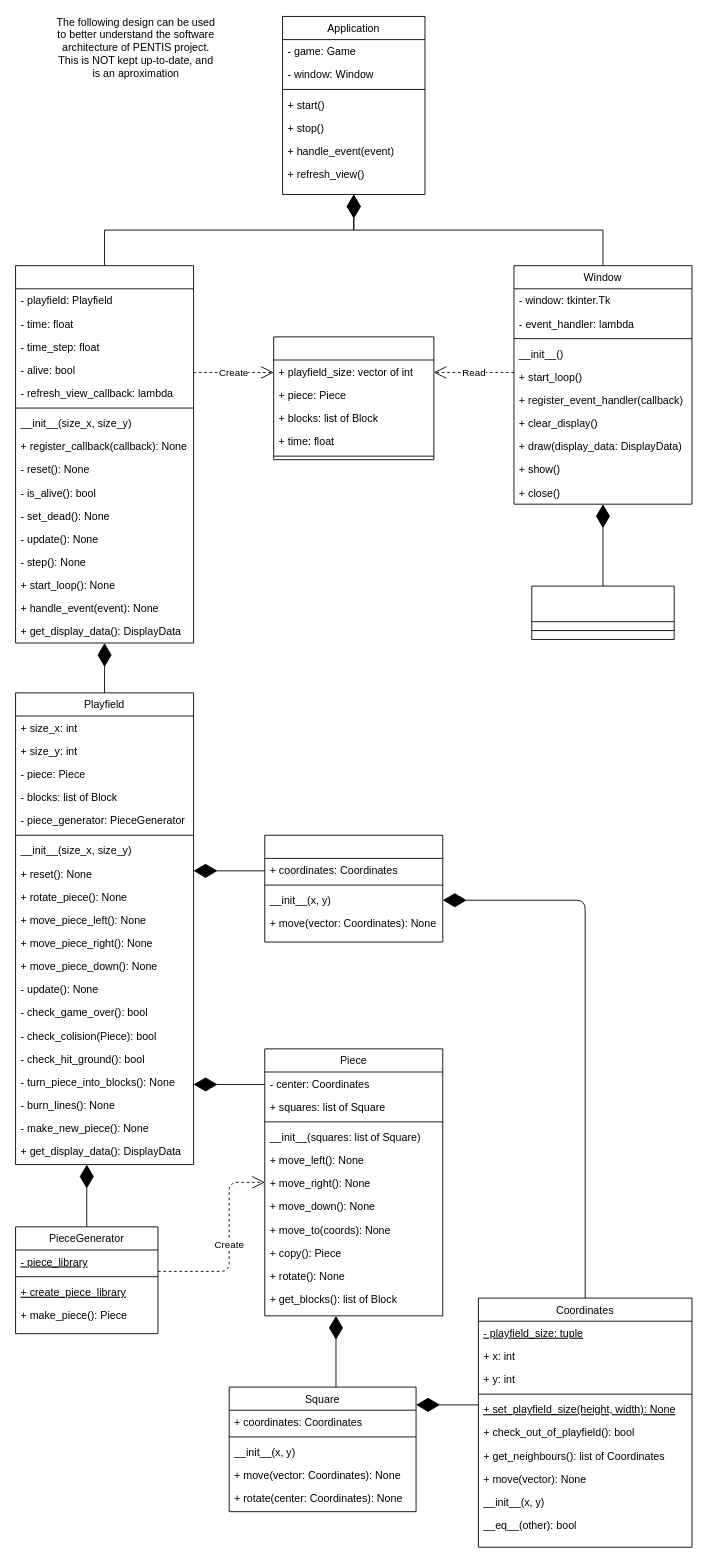
This 708x1563 diagram has some shape labels left out. Each missing label, with the box of its shape:
Block: (264, 834, 443, 942)
DisplayData: (273, 336, 434, 460)
Game: (15, 265, 194, 643)
tkinter.Tk (external library class): (531, 585, 674, 639)
